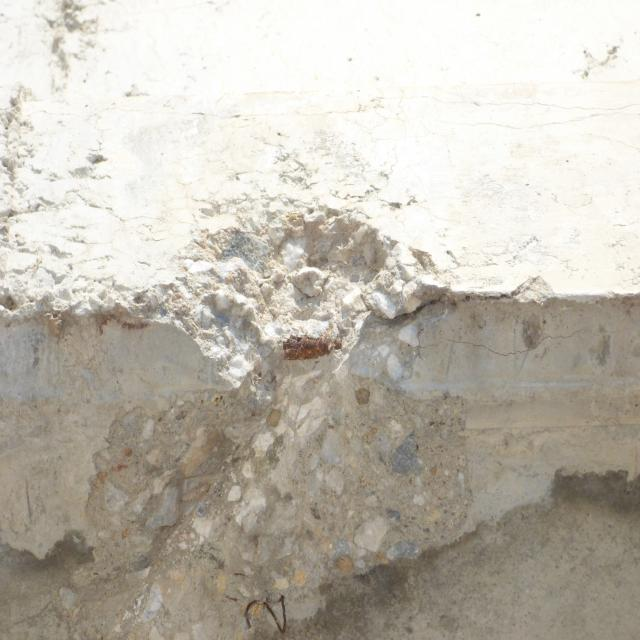corrosion: (239, 591, 293, 637), (282, 334, 346, 361)
